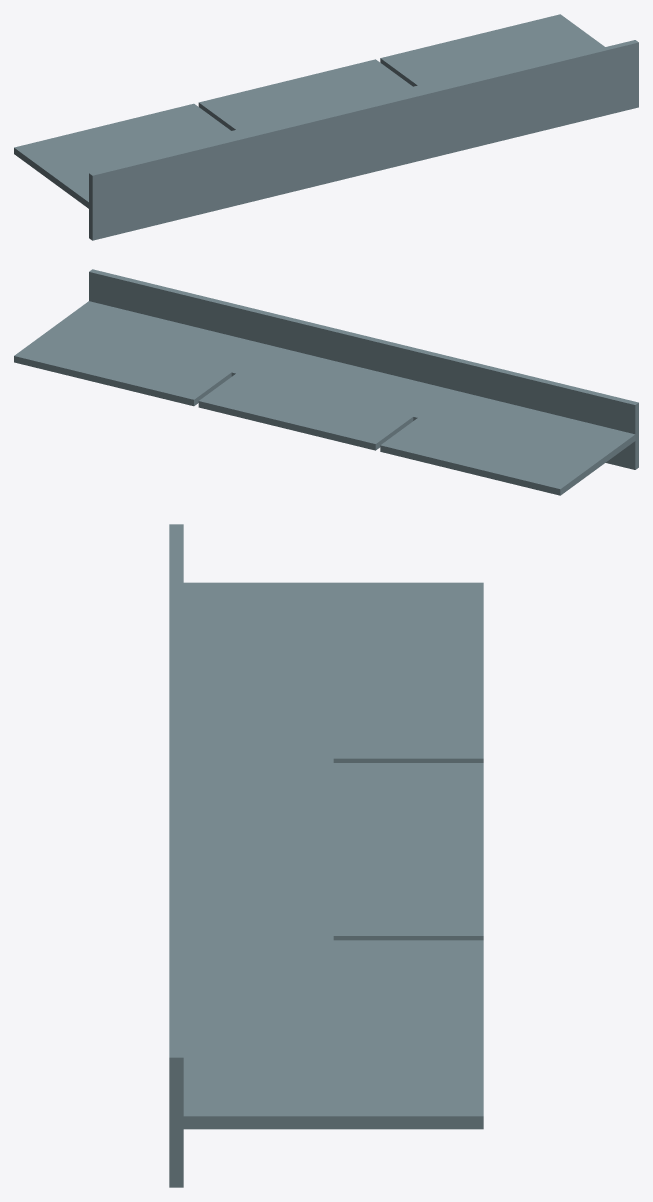
File: esp2023_p03_girder.glb
3 views of the same model, one above another, from view 1: azimuth 30°, elevation 25°; view 2: azimuth 150°, elevation 25°; view 3: azimuth 270°, elevation 25° (orthographic). The views are drawn at different scales.
Visible parts, largest first — view 1: girder; view 2: girder; view 3: girder.
Boxes of the visible parts, x1=… form: girder: x1=14, y1=14, x2=638, y2=240; girder: x1=14, y1=269, x2=638, y2=495; girder: x1=169, y1=524, x2=483, y2=1187.
Bounding box in the file's own units: 1760 × 200 × 438.
